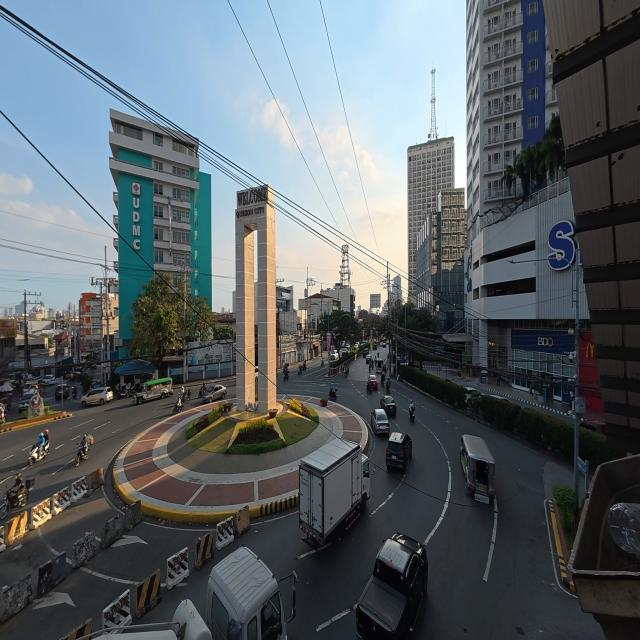Jeepneys: (460, 434, 494, 503), (132, 378, 174, 404)
car: (386, 433, 412, 469), (81, 389, 110, 406), (371, 409, 389, 434), (203, 385, 227, 402), (580, 420, 605, 434), (380, 395, 396, 415), (465, 387, 481, 405), (490, 394, 511, 403), (368, 375, 378, 389), (331, 351, 339, 361), (340, 348, 348, 356), (363, 347, 369, 357), (365, 354, 371, 364), (381, 341, 386, 347)
motorcycle: (0, 483, 31, 520), (28, 442, 49, 466), (75, 442, 89, 466), (179, 390, 190, 404), (119, 387, 129, 399), (173, 402, 183, 414), (329, 387, 337, 400), (199, 385, 206, 397), (186, 389, 191, 402), (386, 379, 390, 393), (410, 408, 414, 422), (284, 370, 289, 381), (381, 373, 385, 383), (367, 385, 372, 393), (298, 368, 302, 375), (303, 362, 306, 370), (321, 359, 324, 366)
trucks: (206, 546, 297, 639), (356, 533, 428, 639), (300, 439, 370, 548)
